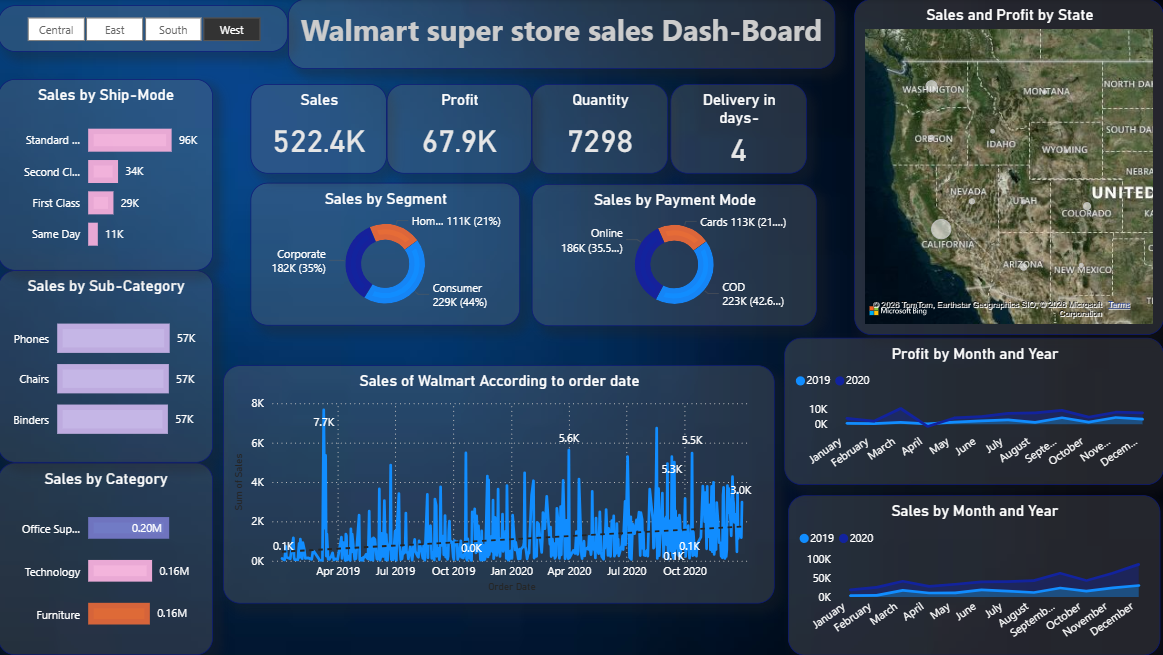

Layout of this report page (visuals, bound fields, positions):
{"tool":"powerbi","page":{"name":"Page 1","canvas":[1280,720],"ordinal":0},"visuals":[{"type":"clusteredBarChart","title":"Sales by Category","fields":{"Y":["Sum(SuperStore_Sales_Dataset.Sales)"],"Category":["SuperStore_Sales_Dataset.Category"]},"box":[0,508.6,235.7,211.4],"z":0},{"type":"clusteredBarChart","title":"Sales by Sub-Category","fields":{"Y":["Sum(SuperStore_Sales_Dataset.Sales)"],"Category":["SuperStore_Sales_Dataset.Sub-Category"]},"box":[0,297.1,235.7,211.4],"z":1000},{"type":"clusteredBarChart","title":"Sales by Ship-Mode","fields":{"Y":["Sum(SuperStore_Sales_Dataset.Sales)"],"Category":["SuperStore_Sales_Dataset.Ship Mode"]},"box":[0,87.1,235.7,210],"z":2000},{"type":"stackedAreaChart","title":"Sales by Month and Year","fields":{"Y":["Sum(SuperStore_Sales_Dataset.Sales)"],"Series":["SuperStore_Sales_Dataset.Order Date.Variation.Date Hierarchy.Year"],"Category":["SuperStore_Sales_Dataset.Order Date.Variation.Date Hierarchy.Month"]},"box":[867.1,544.3,408.6,175.7],"z":3000},{"type":"stackedAreaChart","title":"Profit by Month and Year","fields":{"Series":["SuperStore_Sales_Dataset.Order Date.Variation.Date Hierarchy.Year"],"Category":["SuperStore_Sales_Dataset.Order Date.Variation.Date Hierarchy.Month"],"Y":["Sum(SuperStore_Sales_Dataset.Profit)"]},"box":[862.9,371.4,417.1,161.4],"z":4000},{"type":"map","title":"Sales and Profit by State","fields":{"Category":["SuperStore_Sales_Dataset.State"],"Size":["Sum(SuperStore_Sales_Dataset.Sales)"]},"box":[940,0,340.3,369.1],"z":5000},{"type":"donutChart","title":"Sales by Segment","fields":{"Category":["SuperStore_Sales_Dataset.Segment"],"Y":["Sum(SuperStore_Sales_Dataset.Sales)"]},"box":[277.1,201.4,295.7,157.1],"z":6000},{"type":"donutChart","title":"Sales by Payment Mode","fields":{"Y":["Sum(SuperStore_Sales_Dataset.Sales)"],"Category":["SuperStore_Sales_Dataset.Payment Mode"]},"box":[585.7,202.9,312.9,155.7],"z":7000},{"type":"slicer","fields":{"Values":["SuperStore_Sales_Dataset.Region"]},"box":[0,7.1,318.6,51.4],"z":8000},{"type":"textbox","box":[318.4,0,601,76.8],"z":9000},{"type":"card","title":"Sales","fields":{"Values":["Sum(SuperStore_Sales_Dataset.Sales)"]},"box":[277.2,93.3,149.6,98.8],"z":10000},{"type":"card","title":"Quantity","fields":{"Values":["Sum(SuperStore_Sales_Dataset.Quantity)"]},"box":[585.9,93.3,149.6,98.8],"z":11000},{"type":"card","title":"Profit","fields":{"Values":["Sum(SuperStore_Sales_Dataset.Profit)"]},"box":[426.8,93.3,159.2,98.8],"z":12000},{"type":"card","title":"Delivery in days-","fields":{"Values":["Avg(SuperStore_Sales_Dataset.avg_delivery)"]},"box":[738.3,93.3,149.6,98.8],"z":13000},{"type":"lineChart","title":"Sales of Walmart According to order date","fields":{"Y":["Sum(SuperStore_Sales_Dataset.Sales)"],"Category":["SuperStore_Sales_Dataset.Order Date"]},"box":[247.1,401.4,605.7,261.4],"z":13001}]}

Visuals, with their boxes in screenshot pixels (x1, y1, x2, y2), scaled from the page's 1280x720 canvas onto the 1163x655 screenshot:
"Sales by Category" clusteredBarChart: bbox(0, 463, 214, 654)
"Sales by Sub-Category" clusteredBarChart: bbox(0, 270, 214, 463)
"Sales by Ship-Mode" clusteredBarChart: bbox(0, 79, 214, 270)
"Sales by Month and Year" stackedAreaChart: bbox(788, 495, 1159, 654)
"Profit by Month and Year" stackedAreaChart: bbox(784, 338, 1162, 485)
"Sales and Profit by State" map: bbox(854, 0, 1162, 336)
"Sales by Segment" donutChart: bbox(252, 183, 520, 326)
"Sales by Payment Mode" donutChart: bbox(532, 185, 816, 326)
slicer - SuperStore_Sales_Dataset.Region: bbox(0, 6, 289, 53)
textbox: bbox(289, 0, 835, 70)
"Sales" card: bbox(252, 85, 388, 175)
"Quantity" card: bbox(532, 85, 668, 175)
"Profit" card: bbox(388, 85, 532, 175)
"Delivery in days-" card: bbox(671, 85, 807, 175)
"Sales of Walmart According to order date" lineChart: bbox(225, 365, 775, 603)
